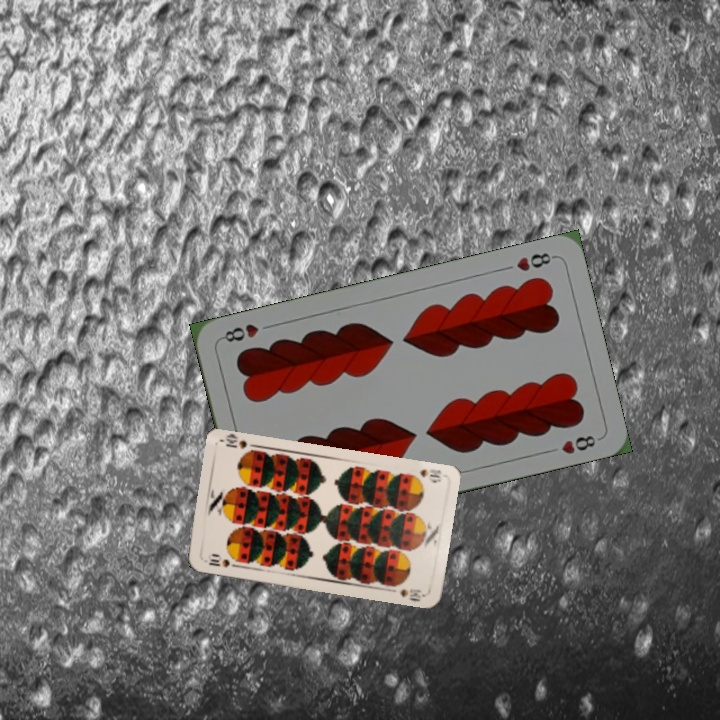H8: (512, 248, 558, 274)
S10: (405, 465, 444, 485), (204, 551, 241, 570)
